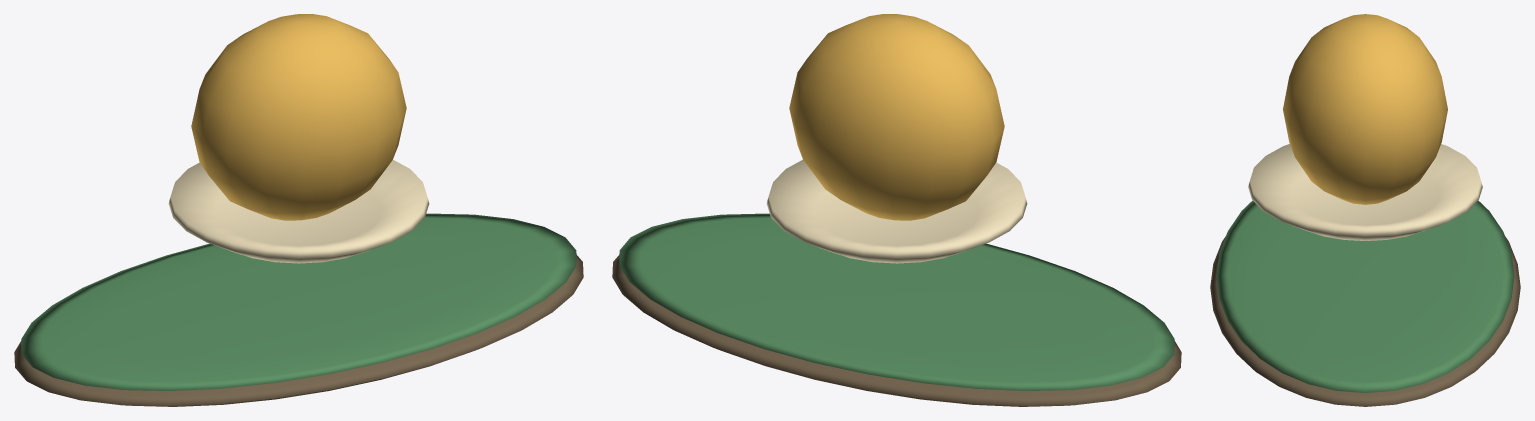
File: sour.glb
The picture shows the model from 3 angles, left to right: view 1: azimuth 30°, elevation 25°; view 2: azimuth 150°, elevation 25°; view 3: azimuth 270°, elevation 25°; orthographic projection. The views are drawn at different scales.
Visible parts, largest first — view 1: sour_surface_01, sour_surface_02, sour_surface_03, sour_surface_00; view 2: sour_surface_01, sour_surface_02, sour_surface_03, sour_surface_00; view 3: sour_surface_01, sour_surface_02, sour_surface_03, sour_surface_00.
Part boxes in pixels (bbox=[...]): sour_surface_01: bbox=[21, 213, 576, 390]; sour_surface_02: bbox=[191, 14, 406, 220]; sour_surface_03: bbox=[168, 159, 429, 263]; sour_surface_00: bbox=[14, 255, 583, 406]; sour_surface_01: bbox=[619, 213, 1174, 390]; sour_surface_02: bbox=[789, 14, 1004, 220]; sour_surface_03: bbox=[766, 159, 1027, 263]; sour_surface_00: bbox=[612, 255, 1181, 406]; sour_surface_01: bbox=[1216, 200, 1514, 392]; sour_surface_02: bbox=[1283, 14, 1447, 204]; sour_surface_03: bbox=[1248, 144, 1482, 240]; sour_surface_00: bbox=[1210, 236, 1520, 406].
Size of the model in its own units: 4.56 by 2.47 by 2.5.
